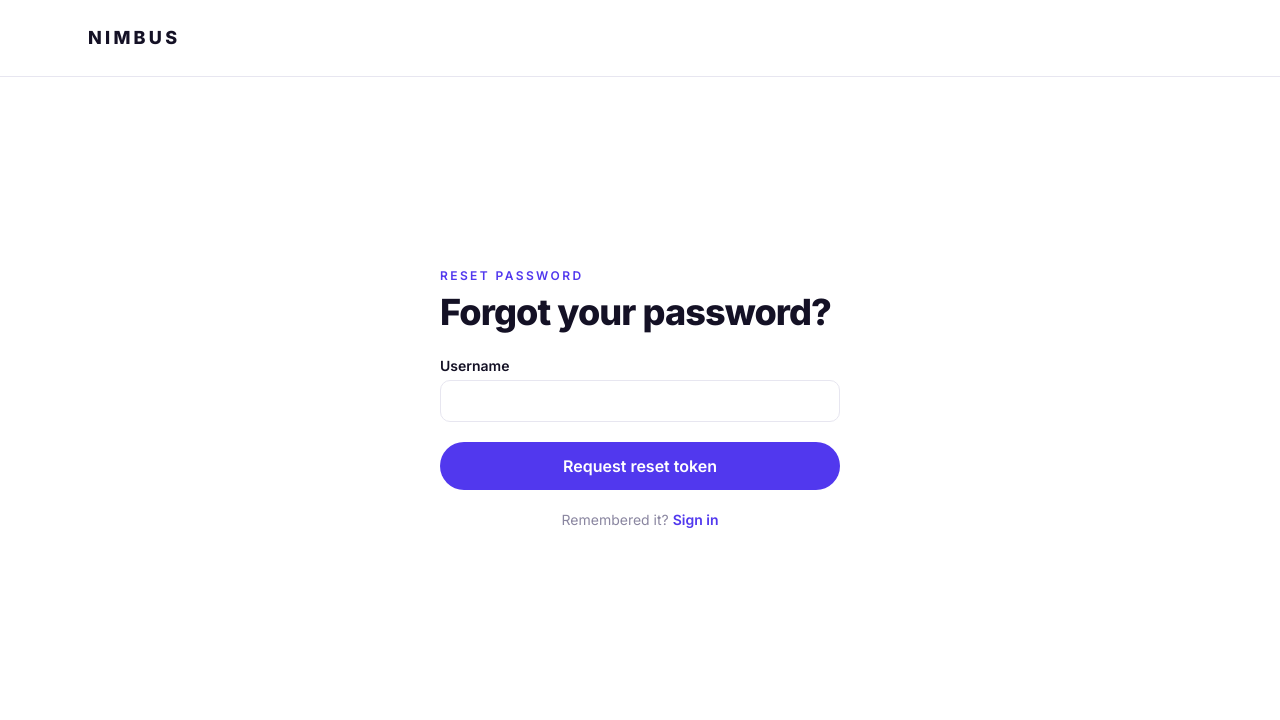
PasswordResetRequestPage › shows "no account" on a 404
In the field labelled "Username": point(640, 400) [440,380,840,422], type "ghost"
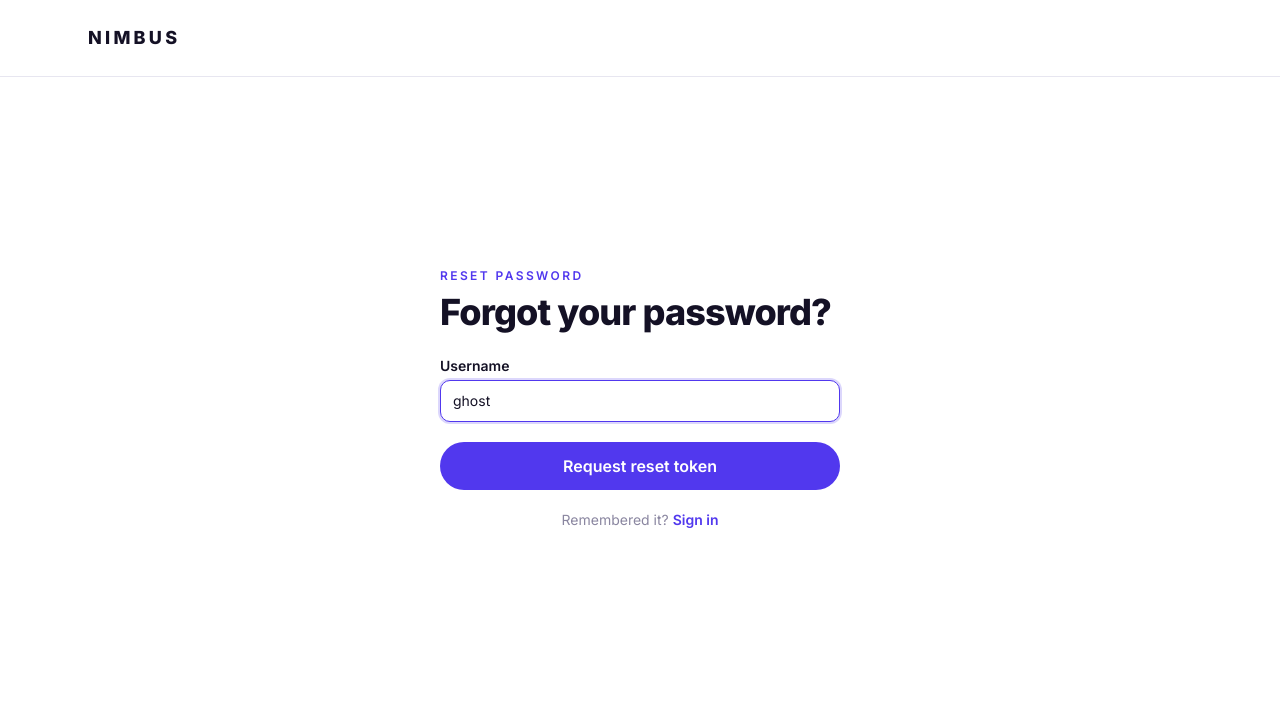
Click the button "Request reset token": point(640, 466) [440,442,840,490]
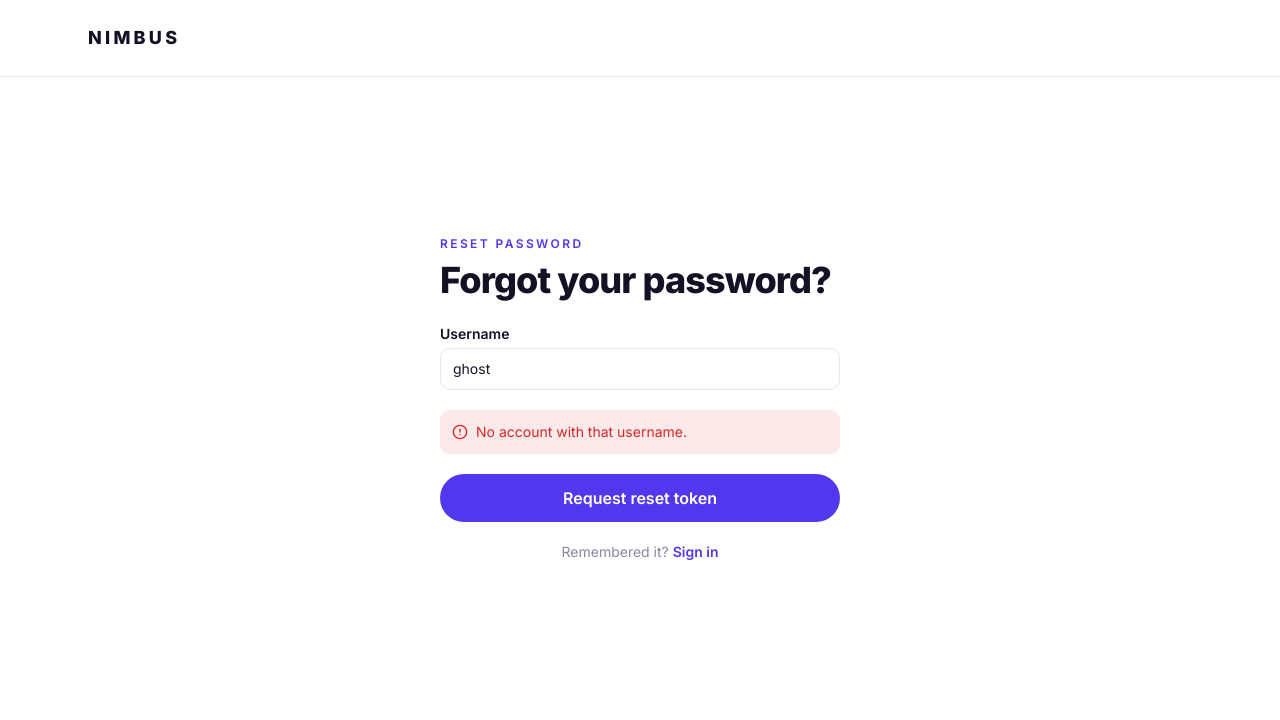
Expected: the message shows "No account", [476,422,687,440]
